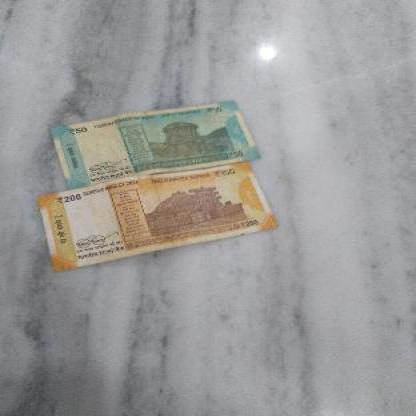New200Back: (36, 183, 276, 268)
New50Back: (51, 100, 244, 164)
